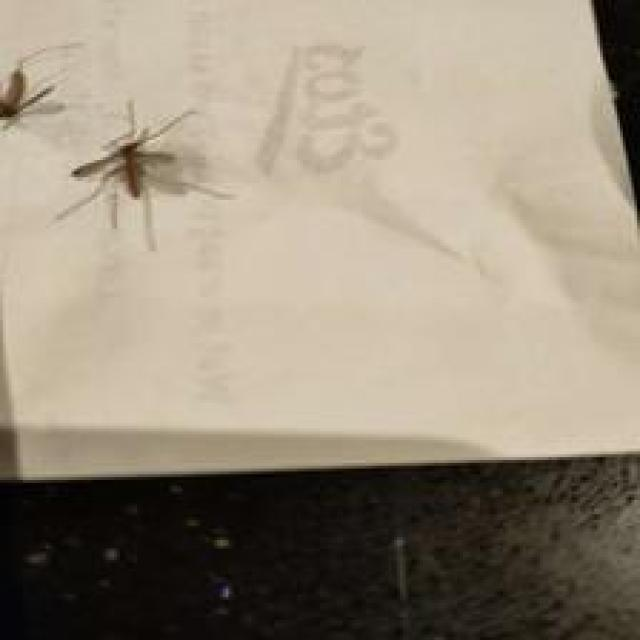Culex: (0, 38, 86, 136)
